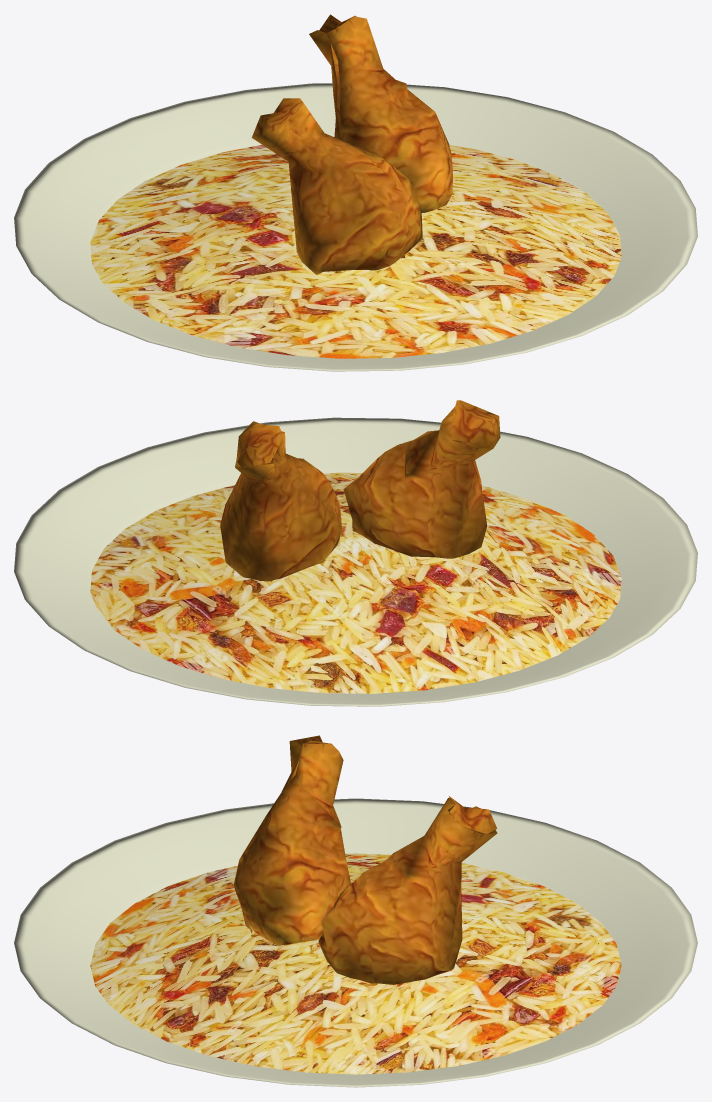
File: biryaniPlate1-transformed.glb
3 renders of one model, top to bottom at view 1: azimuth 30°, elevation 25°; view 2: azimuth 150°, elevation 25°; view 3: azimuth 270°, elevation 25°, orthographic.
Visible parts, largest first — view 1: Biryani.002, model_0.008; view 2: Biryani.002, model_0.008; view 3: Biryani.002, model_0.008.
Part boxes in pixels (x1=…): Biryani.002: x1=14, y1=83, x2=697, y2=371; model_0.008: x1=251, y1=14, x2=452, y2=274; Biryani.002: x1=14, y1=417, x2=697, y2=706; model_0.008: x1=220, y1=400, x2=500, y2=581; Biryani.002: x1=14, y1=798, x2=697, y2=1087; model_0.008: x1=233, y1=735, x2=497, y2=984.
Size of the model in its own units: 0.64 by 0.2044 by 0.64.
Materials: 3 (2 with a texture image).
